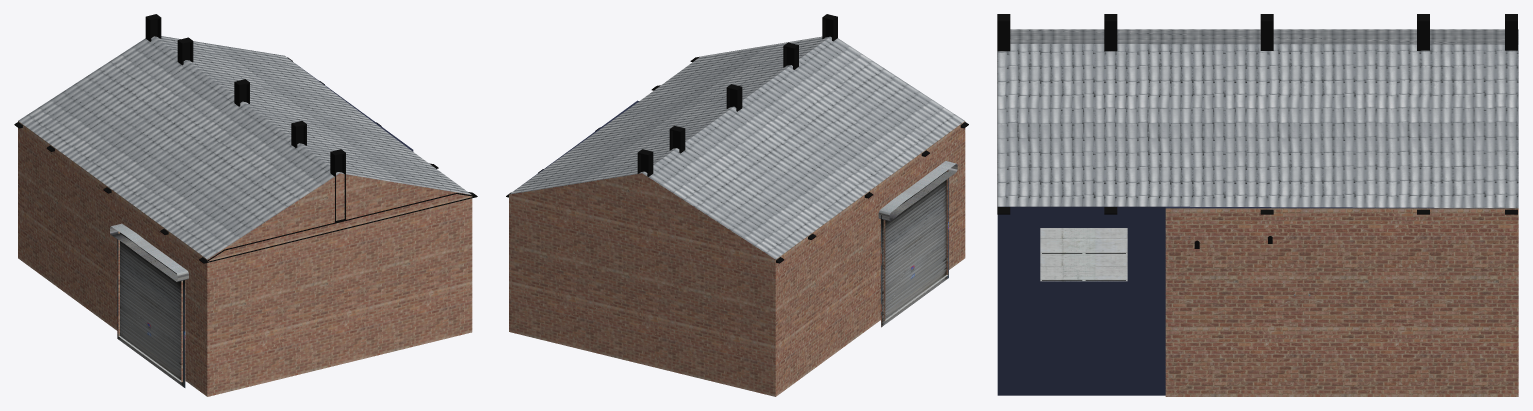
File: BattleScene01.FBX
The picture shows the model from 3 angles, left to right: view 1: azimuth 30°, elevation 25°; view 2: azimuth 150°, elevation 25°; view 3: azimuth 270°, elevation 25°; orthographic projection. The views are drawn at different scales.
Visible parts, largest first — view 1: Box001, Plane003, Box037, Box035, Box036; view 2: Box001, Plane003, Box037; view 3: Box001, Box036, Box030, Box031, Box032, Box034.
Boxes of the visible parts, x1,y1,x2,y2 form: Box001: [18, 36, 472, 396]; Plane003: [117, 232, 185, 387]; Box037: [110, 223, 188, 281]; Box035: [199, 192, 477, 263]; Box036: [330, 149, 345, 222]; Box001: [509, 36, 965, 396]; Plane003: [881, 169, 948, 327]; Box037: [878, 161, 957, 221]; Box001: [997, 29, 1518, 396]; Box036: [997, 14, 1010, 113]; Box030: [1104, 14, 1117, 51]; Box031: [1260, 14, 1273, 50]; Box032: [1417, 14, 1429, 50]; Box034: [1505, 14, 1517, 50].
Size of the model in its own units: 856 by 627 by 1000.
